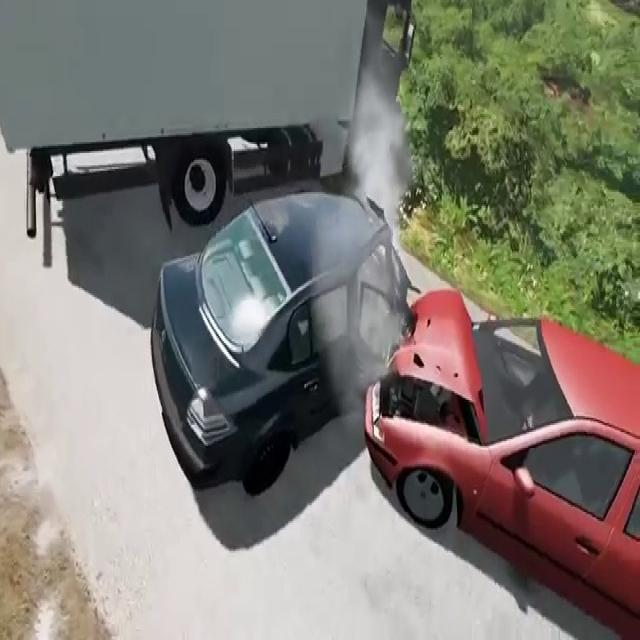severe: (149, 158, 640, 640)
